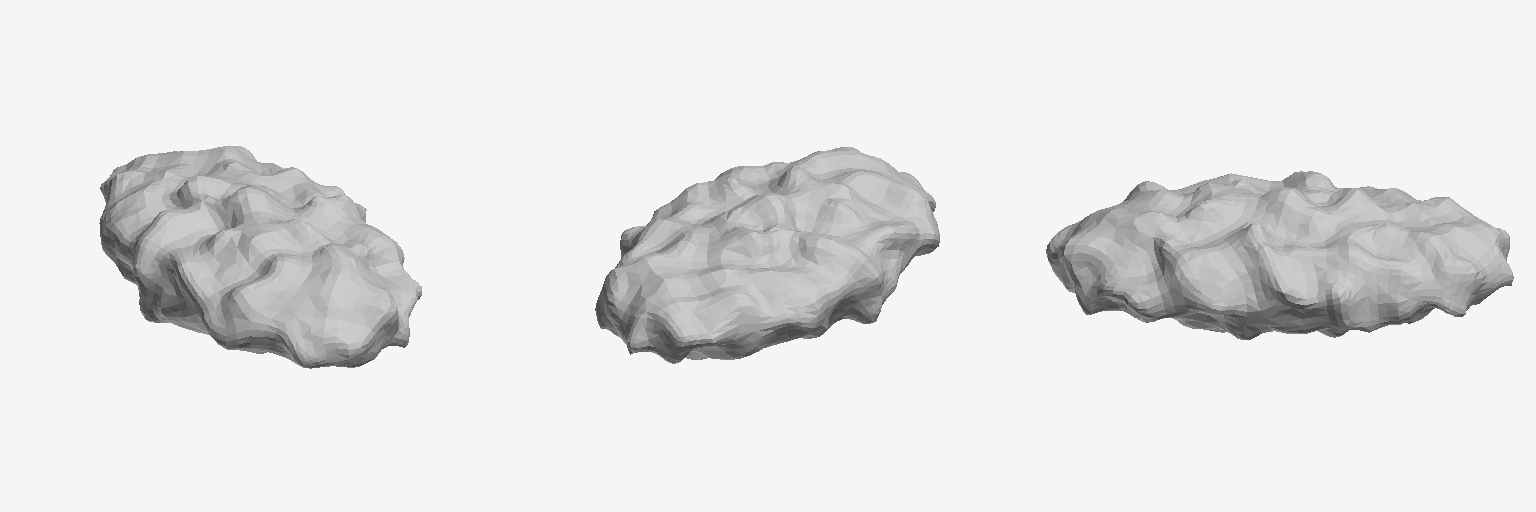
File: cloud3.obj
3 views of the same model, side by side, from view 1: azimuth 30°, elevation 25°; view 2: azimuth 150°, elevation 25°; view 3: azimuth 270°, elevation 25° (orthographic).
Visible parts, largest first — view 1: Cloud_3; view 2: Cloud_3; view 3: Cloud_3.
Boxes of the visible parts, <box> form: Cloud_3: <box>99,146,421,368</box>; Cloud_3: <box>595,147,939,363</box>; Cloud_3: <box>1046,171,1513,339</box>.
Size of the model in its own units: 119 by 63.05 by 206.